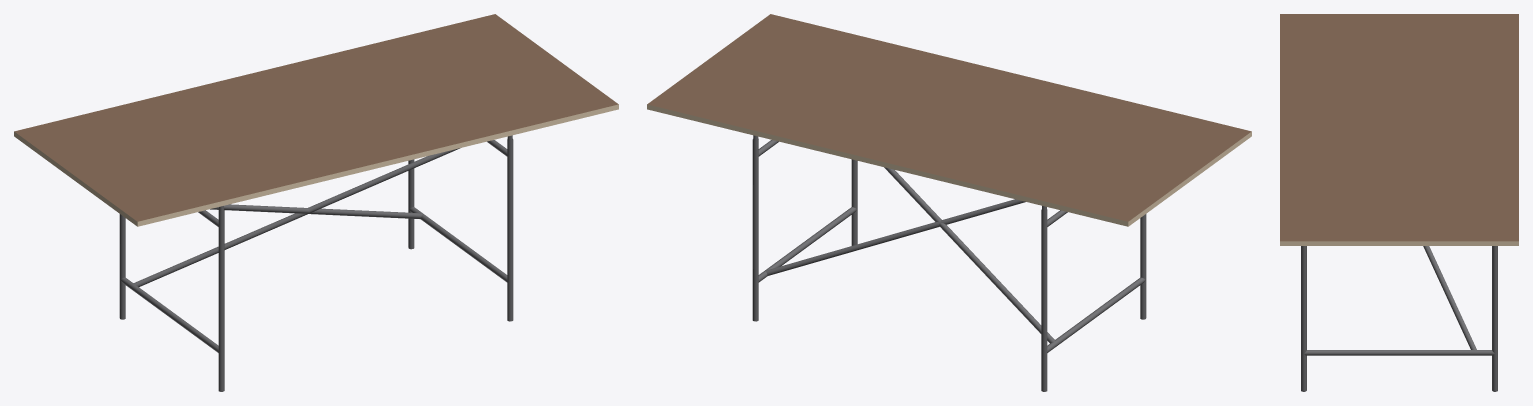
The model's file is desk-eiermann.glb.
3 views of the same model, side by side, from view 1: azimuth 30°, elevation 25°; view 2: azimuth 150°, elevation 25°; view 3: azimuth 270°, elevation 25° (orthographic). The views are drawn at different scales.
Parts seen in each view (by area): view 1: Top, Frame; view 2: Top, Frame; view 3: Top, Frame.
Part boxes in pixels (box(x1,y1,x2,y2)): Top: box(14, 14, 618, 226); Frame: box(119, 135, 513, 391); Top: box(647, 14, 1251, 226); Frame: box(752, 135, 1146, 391); Top: box(1280, 14, 1518, 245); Frame: box(1301, 246, 1497, 391).
Bounding box in the file's own units: 1.8 × 0.72 × 0.8.
